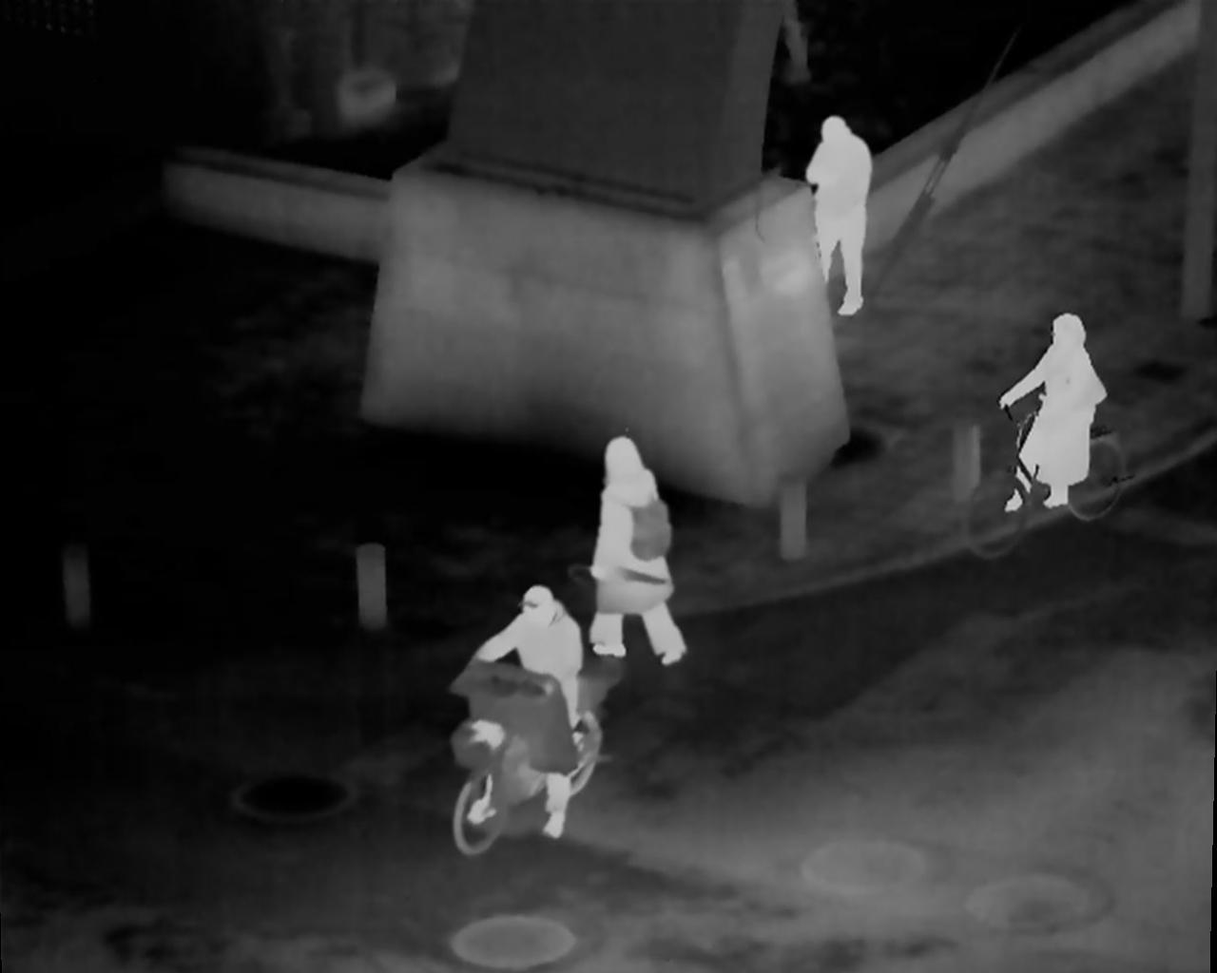person: (481, 587, 580, 842), (595, 436, 692, 660), (1002, 308, 1110, 506), (807, 115, 876, 314)
